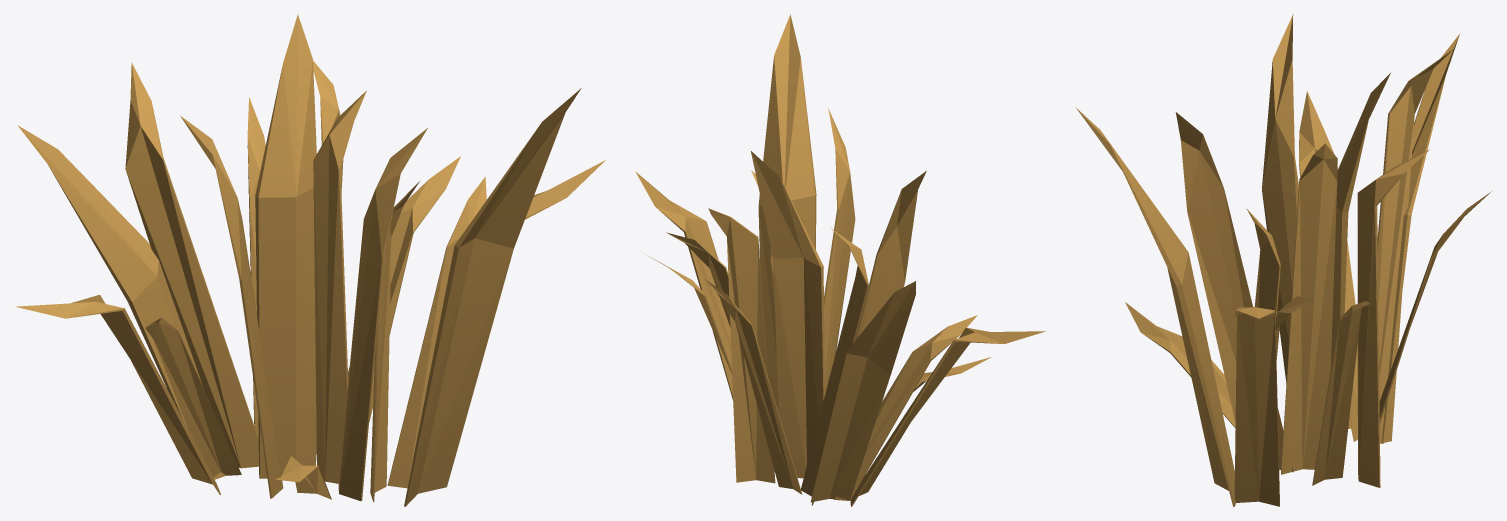
Rendered from Env_Grass_Patch_Yellow_05.obj.
3 views of the same model, side by side, from view 1: azimuth 30°, elevation 25°; view 2: azimuth 150°, elevation 25°; view 3: azimuth 270°, elevation 25° (orthographic). The views are drawn at different scales.
Parts seen in each view (by area): view 1: Env_Grass_Patch_Yellow_05; view 2: Env_Grass_Patch_Yellow_05; view 3: Env_Grass_Patch_Yellow_05.
Part boxes in pixels (x1,y1,x2,y2): Env_Grass_Patch_Yellow_05: (15,14,605,506); Env_Grass_Patch_Yellow_05: (635,14,1045,506); Env_Grass_Patch_Yellow_05: (1075,14,1491,506).
Size of the model in its own units: 0.5578 by 0.4305 by 0.3843.
1 material, 1 textured.
